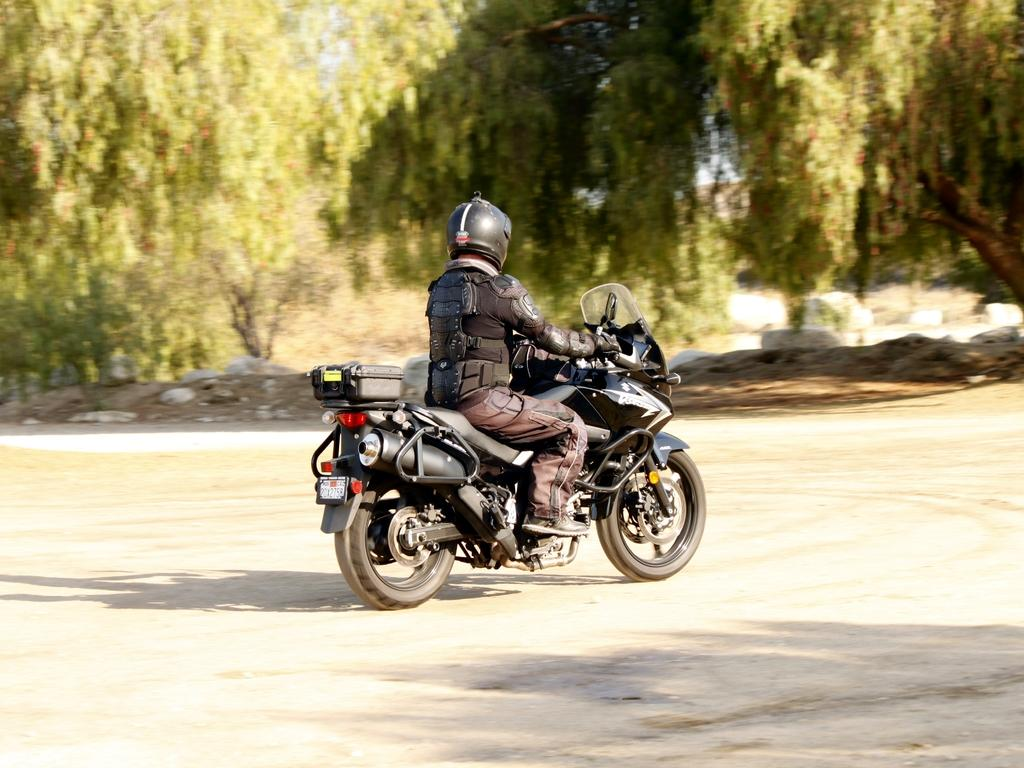helmet: (446, 201, 512, 273)
